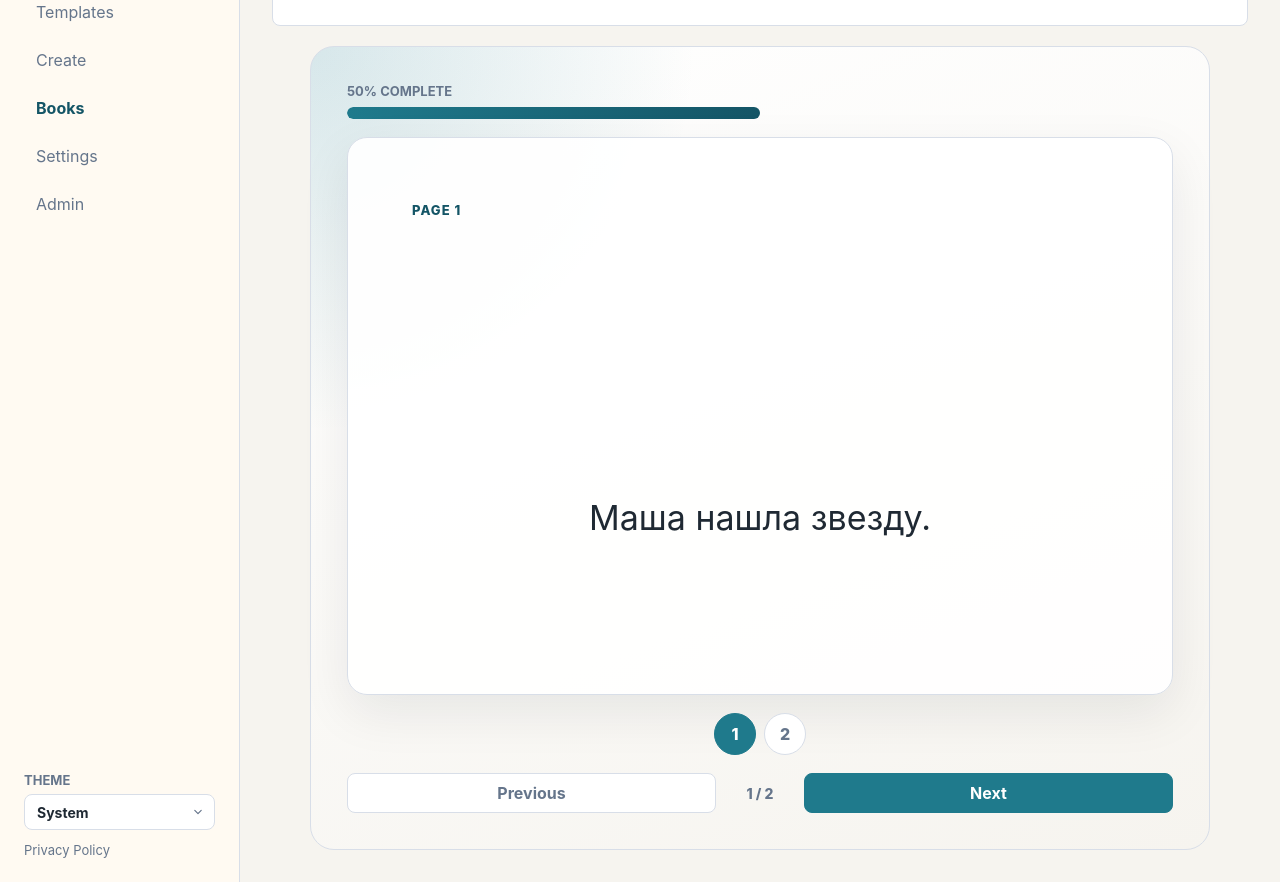
BookReaderPage › supports next and previous navigation
(page scrolled)
Check: the text "Маша нашла звезду." is shown, box [589,497,931,538]
Click the button "Next".
click(988, 793)  # box [804,773,1173,813]
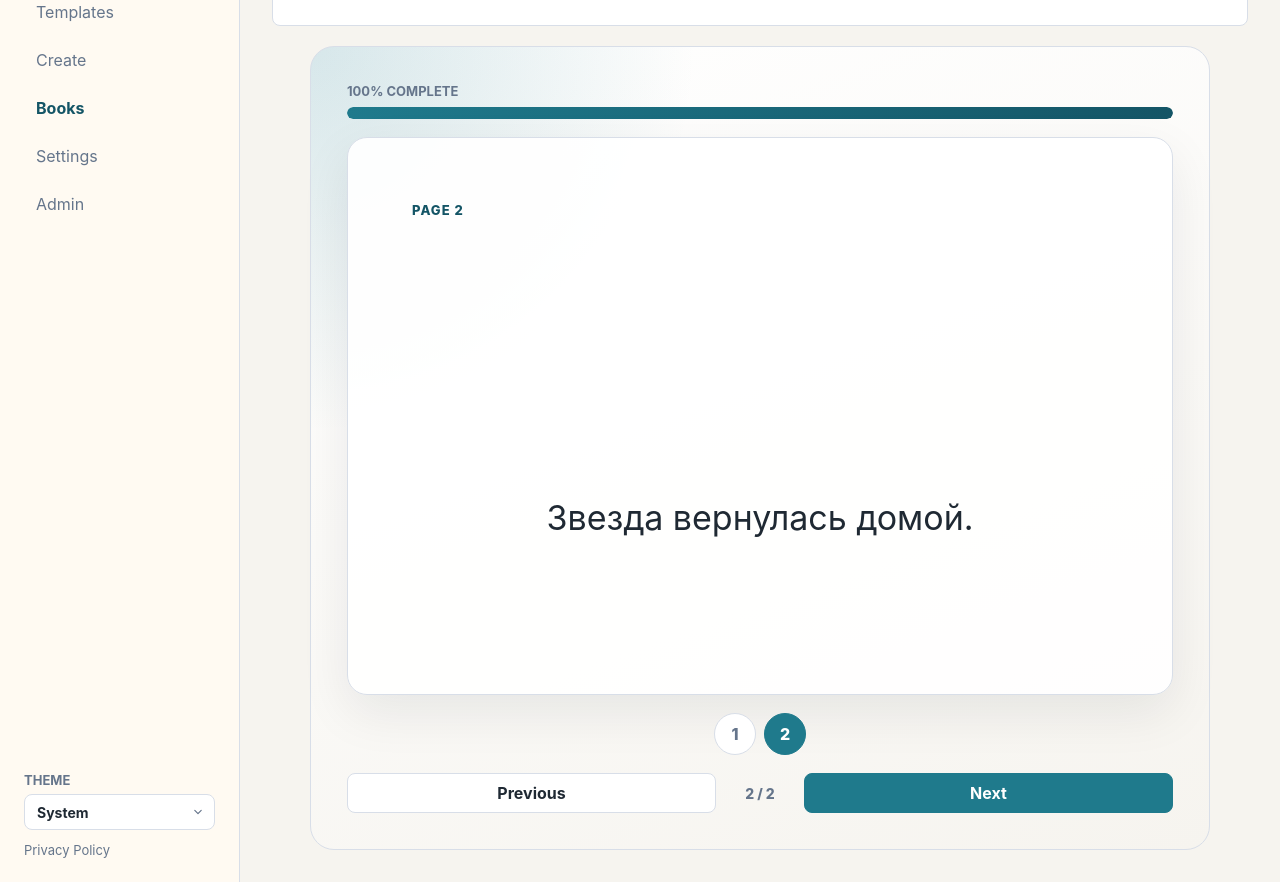
Check: the text "Звезда вернулась домой." is shown, box [546,497,974,538]
Click the button "Previous".
click(532, 793)  # box [347,773,716,813]
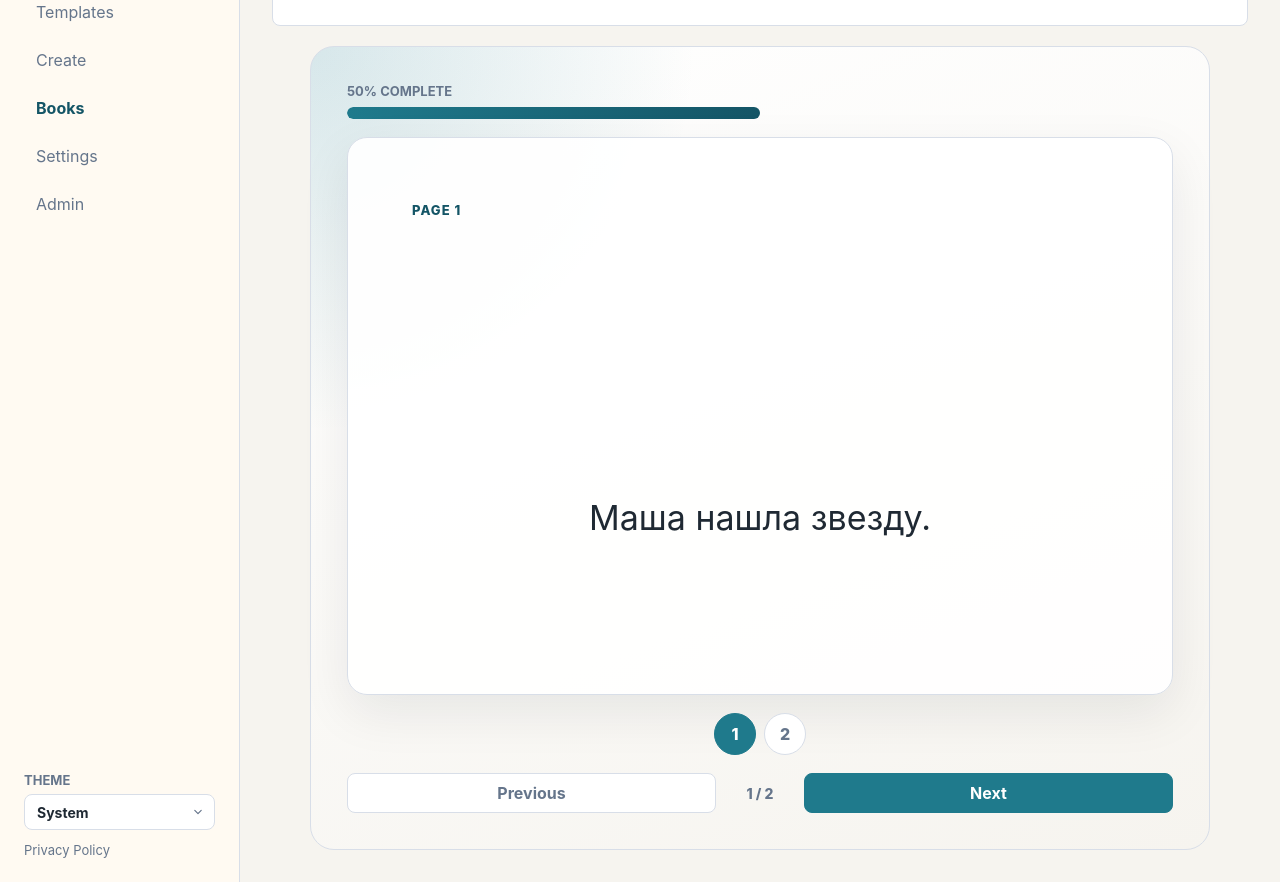
Check: the text "Маша нашла звезду." is shown, box [589,497,931,538]
